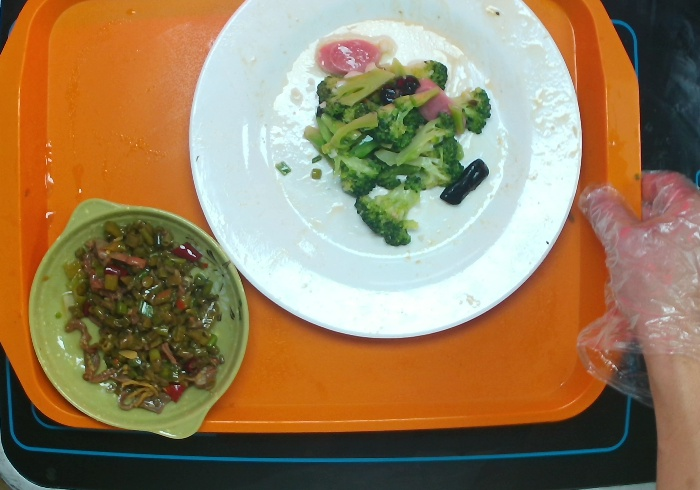NLDX-Da_Yuan_Pan: (184, 3, 580, 342)
NLDX-Lv_Hua_Shuang_Er_Die: (26, 196, 249, 445)
